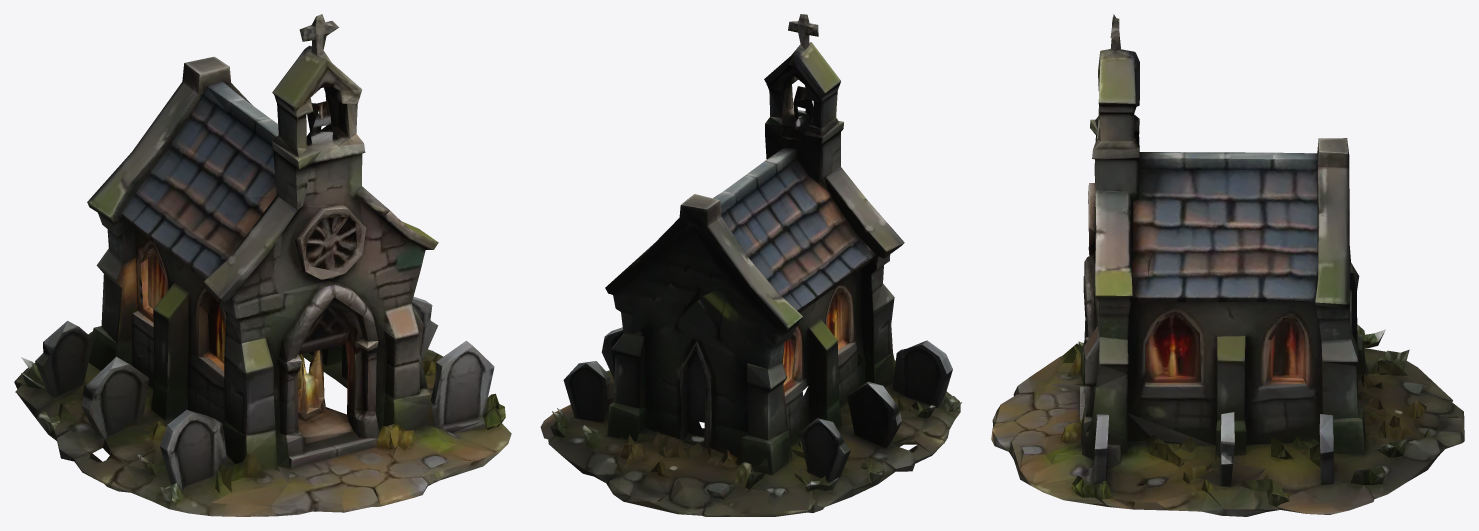
File: cathedral.glb
3 views of the same model, side by side, from view 1: azimuth 30°, elevation 25°; view 2: azimuth 150°, elevation 25°; view 3: azimuth 270°, elevation 25° (orthographic). The views are drawn at different scales.
Visible parts, largest first — view 1: geometry_0; view 2: geometry_0; view 3: geometry_0.
Part boxes in pixels (x1,y1,x2,y2): geometry_0: (14,14,511,516); geometry_0: (540,14,961,516); geometry_0: (991,14,1464,516).
Bounding box in the file's own units: 0.8814 × 0.9613 × 0.9957.
Materials: 1 (1 with a texture image).
